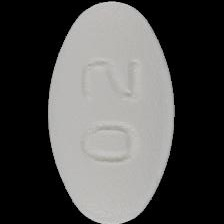54868-3062: (0, 0, 224, 224)
